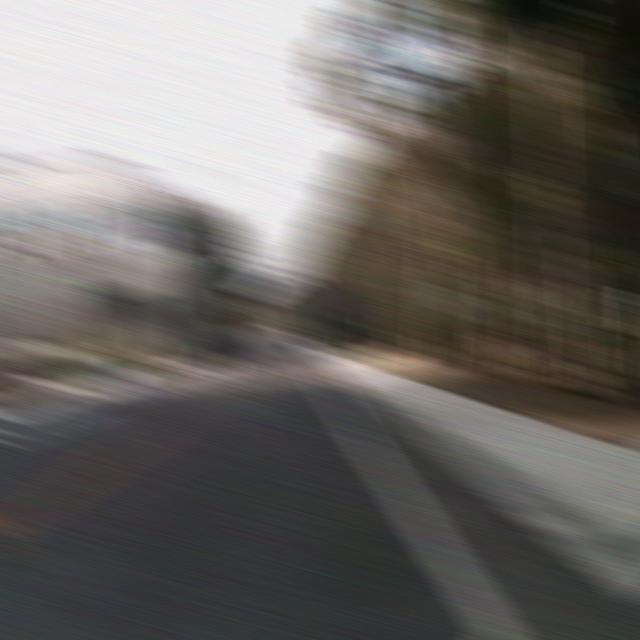speedLimit35: (433, 286, 468, 318)
